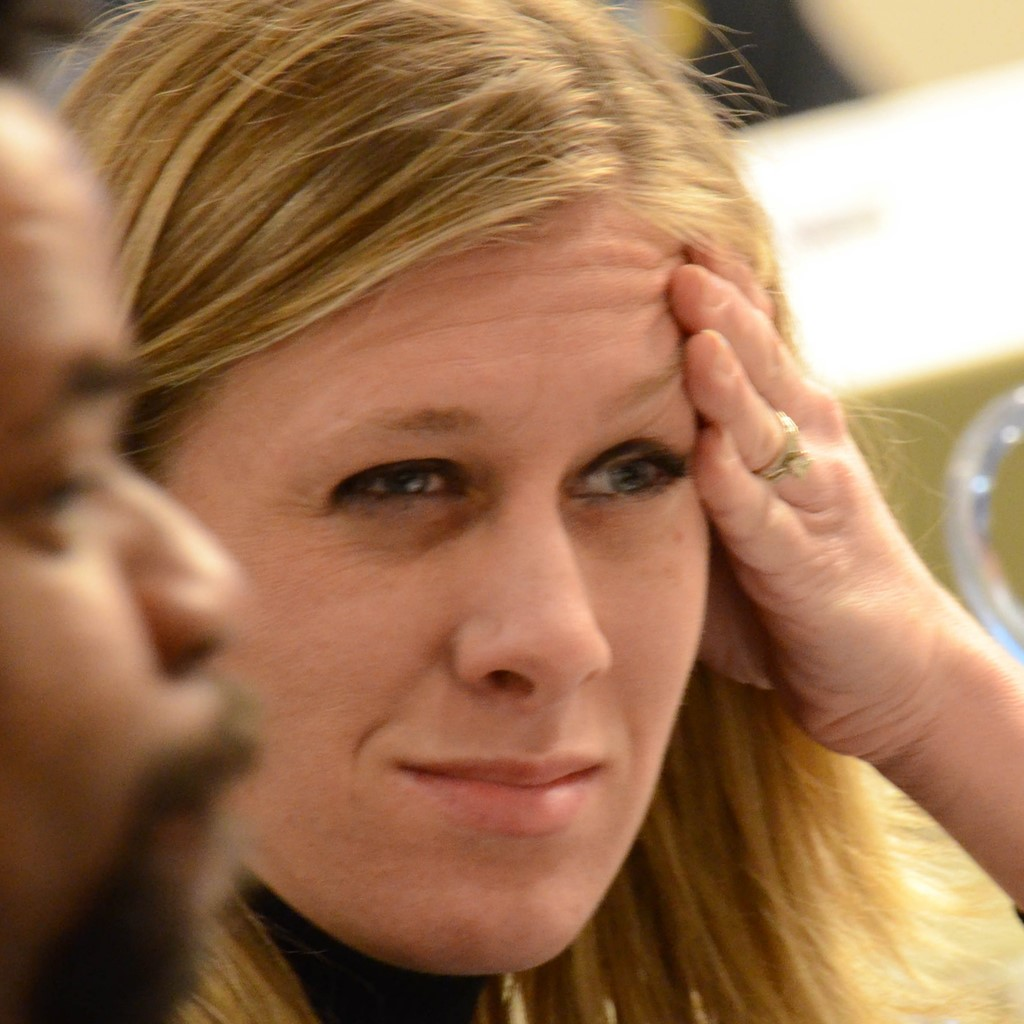sin_mascara: (146, 153, 734, 928)
